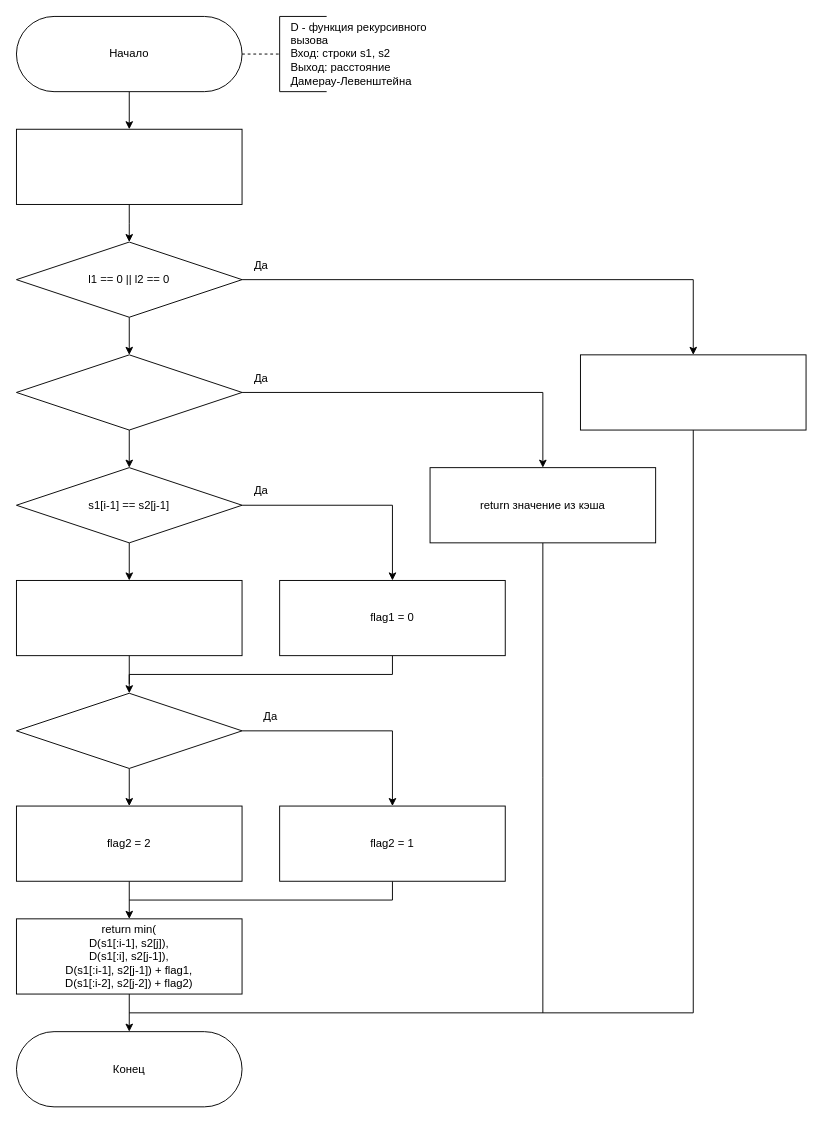
Image size: 823x1123. Some labels were removed from this diagram. The box of each missing label's shape, as (x1, y1, x2, y2) in pixels:
flag1 = 1: (16, 580, 242, 656)
l1 = длина строки s1 l2 = длина строки s2: (16, 128, 242, 204)
return max(l1, l2): (580, 354, 806, 430)
s1[i-2] == s2[j-1] && s1[i-1] == s2[j-2]: (16, 692, 242, 768)
В кэше есть значение для i и j: (16, 354, 242, 430)
